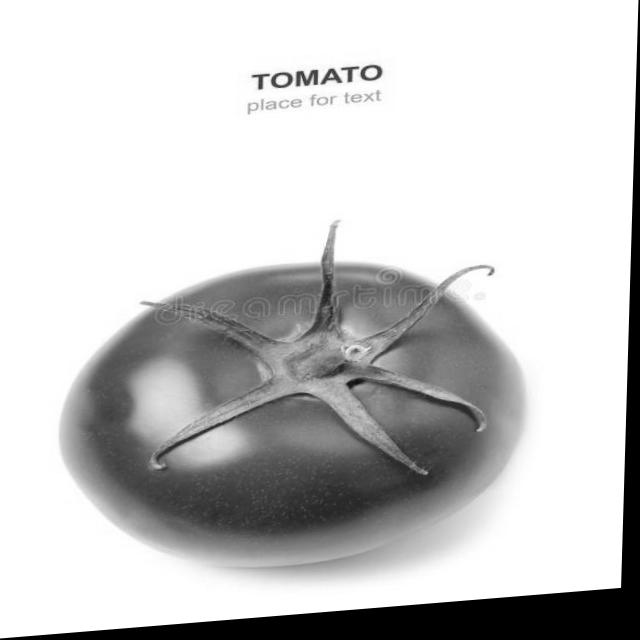kirmizi: (44, 255, 573, 578)
